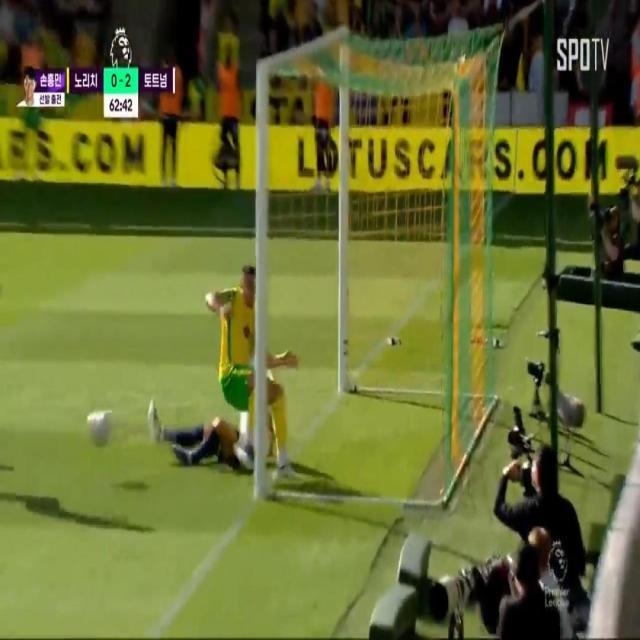player: (133, 392, 286, 478), (208, 259, 291, 408), (85, 404, 114, 449)
